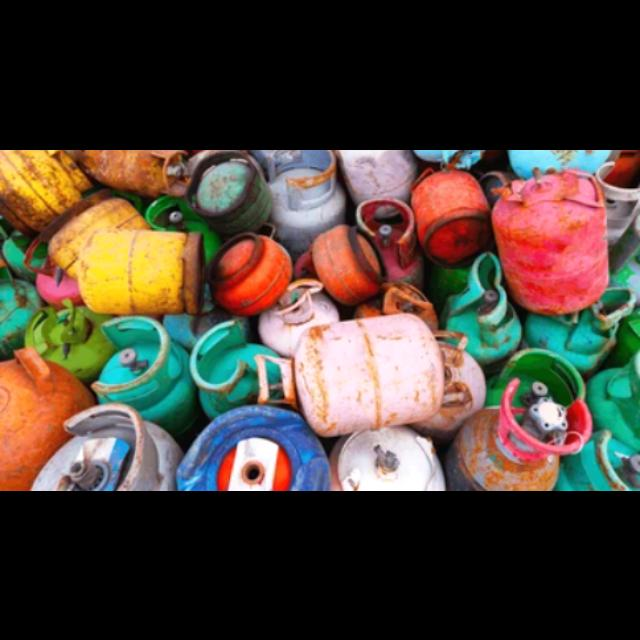Cylinders: (256, 310, 448, 438), (79, 227, 197, 312)
